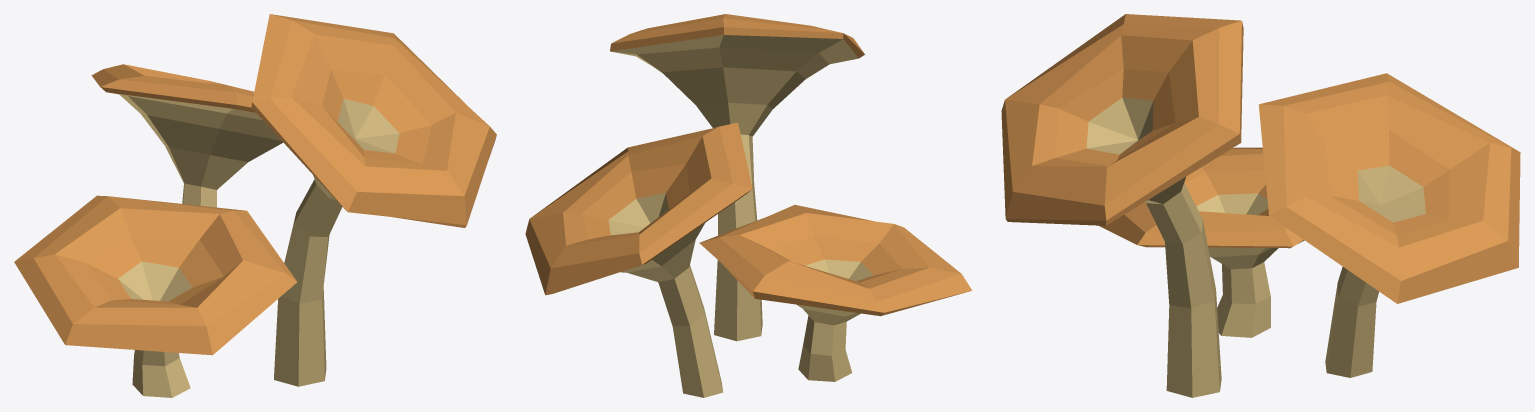
File: saffron_milk_cap.fbx
3 views of the same model, side by side, from view 1: azimuth 30°, elevation 25°; view 2: azimuth 150°, elevation 25°; view 3: azimuth 270°, elevation 25° (orthographic). The views are drawn at different scales.
Visible parts, largest first — view 1: saffron_milk_cap; view 2: saffron_milk_cap; view 3: saffron_milk_cap.
Part boxes in pixels (x1,y1,x2,y2): saffron_milk_cap: (14,14,496,397); saffron_milk_cap: (525,14,972,397); saffron_milk_cap: (1001,14,1520,397).
Bounding box in the file's own units: 48.43 × 40.1 × 52.3.
